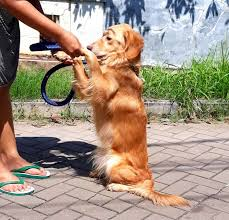Bulldog: (69, 18, 188, 216)
